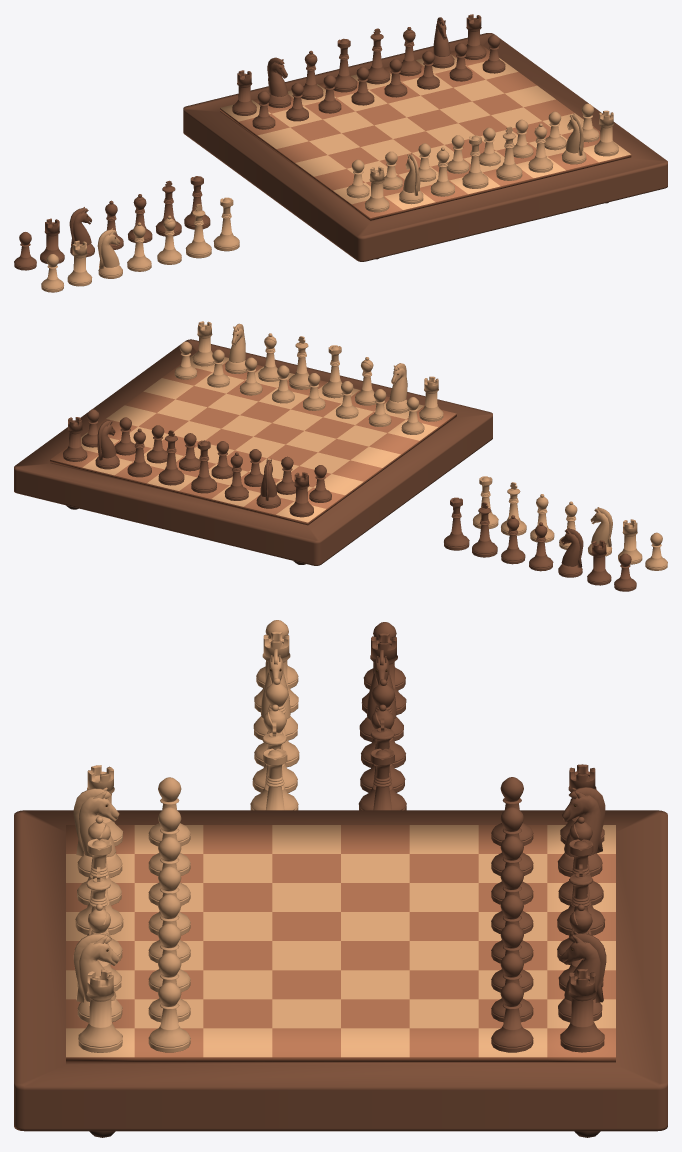
3 views of the same model, one above another, from view 1: azimuth 30°, elevation 25°; view 2: azimuth 150°, elevation 25°; view 3: azimuth 270°, elevation 25° (orthographic). The views are drawn at different scales.
Visible parts, largest first — view 1: classic_board_filled.001, chess_knight_black, chess_knight_white.002, chess_knight_white.001, chess_knight_white, chess_queen_white.001, chess_knight_black.001, chess_queen_white, chess_rock_white.001, chess_knight_black.002, chess_king_white.001, chess_rock_black (+34 smaller); view 2: classic_board_filled.001, chess_knight_black.002, chess_knight_black.001, chess_knight_white, chess_knight_white.001, chess_queen_black.001, chess_queen_black, chess_king_black.001, chess_king_black, chess_rock_black.002, chess_rock_white, chess_knight_white.002 (+34 smaller); view 3: classic_board_filled.001, chess_rock_black.001, chess_rock_white.001, chess_knight_white, chess_knight_black, chess_knight_white.001, chess_knight_black.001, chess_pawn_white.007, chess_pawn_black.007, chess_queen_white, chess_queen_black, chess_knight_white.002 (+33 smaller).
Boxes of the visible parts, <box> form: classic_board_filled.001: <box>183,33,667,261</box>; chess_knight_black: <box>267,57,291,107</box>; chess_knight_white.002: <box>97,228,122,278</box>; chess_knight_white.001: <box>561,113,586,164</box>; chess_knight_white: <box>399,153,423,204</box>; chess_queen_white.001: <box>213,197,239,251</box>; chess_knight_black.001: <box>432,17,454,68</box>; chess_queen_white: <box>462,135,488,188</box>; chess_rock_white.001: <box>594,110,618,156</box>; chess_knight_black.002: <box>69,207,94,257</box>; chess_king_white.001: <box>185,204,211,258</box>; chess_rock_black: <box>232,70,256,115</box>; classic_board_filled.001: <box>14,339,492,565</box>; chess_knight_black.002: <box>558,527,583,577</box>; chess_knight_black.001: <box>95,419,119,469</box>; chess_knight_white: <box>386,363,408,413</box>; chess_knight_white.001: <box>225,323,246,373</box>; chess_queen_black.001: <box>444,497,469,550</box>; chess_queen_black: <box>191,440,216,493</box>; chess_king_black.001: <box>472,502,497,557</box>; chess_king_black: <box>158,430,184,485</box>; chess_rock_black.002: <box>587,540,611,585</box>; chess_rock_white: <box>419,376,443,421</box>; chess_knight_white.002: <box>588,507,612,556</box>; classic_board_filled.001: <box>14,810,667,1137</box>; chess_rock_black.001: <box>560,969,604,1052</box>; chess_rock_white.001: <box>78,969,122,1052</box>; chess_knight_white: <box>73,787,122,877</box>; chess_knight_black: <box>557,787,605,876</box>; chess_knight_white.001: <box>73,932,122,1022</box>; chess_knight_black.001: <box>558,931,606,1022</box>; chess_pawn_white.007: <box>148,982,190,1052</box>; chess_pawn_black.007: <box>491,982,533,1052</box>; chess_queen_white: <box>75,838,123,934</box>; chess_queen_black: <box>557,839,604,935</box>; chess_knight_white.002: <box>253,649,297,740</box>.
Bounding box in the file's own units: 2.61 × 0.4469 × 1.46.
Materials: 1 (1 with a texture image).
